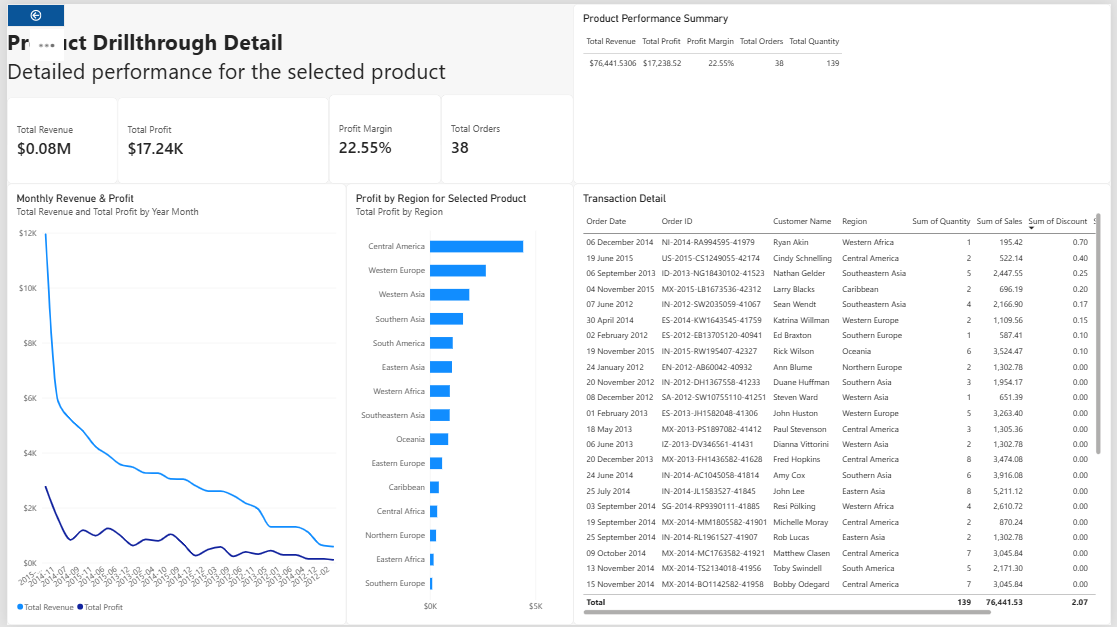

The page's visual inventory and layout, read from the dashboard file:
{"tool":"powerbi","page":{"name":"Drillthrough Detail","canvas":[1920,1080],"ordinal":4},"visuals":[{"type":"textbox","box":[0,40,1370,145],"z":0},{"type":"actionButton","box":[0,0,100,40],"z":1000},{"type":"actionButton","box":[0,0,100,40],"z":2000},{"type":"cardVisual","fields":{"Data":["CLEAN_GlobalSuperstore_2016.Total Revenue"]},"box":[0,162.5,192.5,150],"z":3000},{"type":"cardVisual","fields":{"Data":["CLEAN_GlobalSuperstore_2016.Total Profit"]},"box":[192.5,162.5,367.5,150],"z":4000},{"type":"cardVisual","fields":{"Data":["CLEAN_GlobalSuperstore_2016.Profit Margin"]},"box":[560,157.5,195,150],"z":5000},{"type":"cardVisual","fields":{"Data":["CLEAN_GlobalSuperstore_2016.Total Orders"]},"box":[755,157.5,230,150],"z":6000},{"type":"lineClusteredColumnComboChart","title":"Monthly Revenue & Profit","fields":{"Category":["DateTable.Year Month"],"Y2":["CLEAN_GlobalSuperstore_2016.Total Revenue","CLEAN_GlobalSuperstore_2016.Total Profit"]},"box":[0,312.5,590,767.5],"z":7000},{"type":"tableEx","title":"Product Performance Summary","fields":{"Values":["CLEAN_GlobalSuperstore_2016.Total Revenue","CLEAN_GlobalSuperstore_2016.Total Profit","CLEAN_GlobalSuperstore_2016.Profit Margin","CLEAN_GlobalSuperstore_2016.Total Orders","CLEAN_GlobalSuperstore_2016.Total Quantity"]},"box":[985,0,590,312.5],"z":8000},{"type":"tableEx","title":"Transaction Detail","fields":{"Values":["CLEAN_GlobalSuperstore_2016.Order Date","CLEAN_GlobalSuperstore_2016.Order ID","CLEAN_GlobalSuperstore_2016.Customer Name","CLEAN_GlobalSuperstore_2016.Region","Sum(CLEAN_GlobalSuperstore_2016.Quantity)","Sum(CLEAN_GlobalSuperstore_2016.Sales)","Sum(CLEAN_GlobalSuperstore_2016.Discount)","Sum(CLEAN_GlobalSuperstore_2016.Profit)","Sum(CLEAN_GlobalSuperstore_2016.Shipping Cost)"]},"box":[985,312.5,590,767.5],"z":9000},{"type":"clusteredBarChart","title":"Profit by Region for Selected Product","fields":{"Category":["CLEAN_GlobalSuperstore_2016.Region"],"Y":["CLEAN_GlobalSuperstore_2016.Total Profit"]},"box":[590,312.5,395,767.5],"z":10000}]}

Visuals, with their boxes on the page's 1920x1080 design canvas (x1, y1, x2, y2). These are canvas units, not pixel positions in the 1117x627 screenshot, which may show the page scaled, cropped or inside an application window:
textbox: rect(0, 40, 1370, 185)
actionButton: rect(0, 0, 100, 40)
actionButton: rect(0, 0, 100, 40)
cardVisual - CLEAN_GlobalSuperstore_2016.Total Revenue: rect(0, 162, 192, 312)
cardVisual - CLEAN_GlobalSuperstore_2016.Total Profit: rect(192, 162, 560, 312)
cardVisual - CLEAN_GlobalSuperstore_2016.Profit Margin: rect(560, 158, 755, 308)
cardVisual - CLEAN_GlobalSuperstore_2016.Total Orders: rect(755, 158, 985, 308)
"Monthly Revenue & Profit" lineClusteredColumnComboChart: rect(0, 312, 590, 1080)
"Product Performance Summary" tableEx: rect(985, 0, 1575, 312)
"Transaction Detail" tableEx: rect(985, 312, 1575, 1080)
"Profit by Region for Selected Product" clusteredBarChart: rect(590, 312, 985, 1080)
